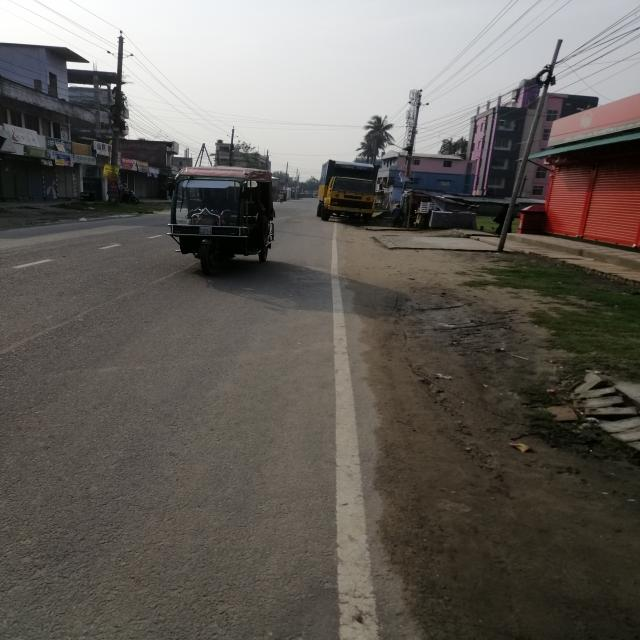Truck: (313, 155, 387, 230)
